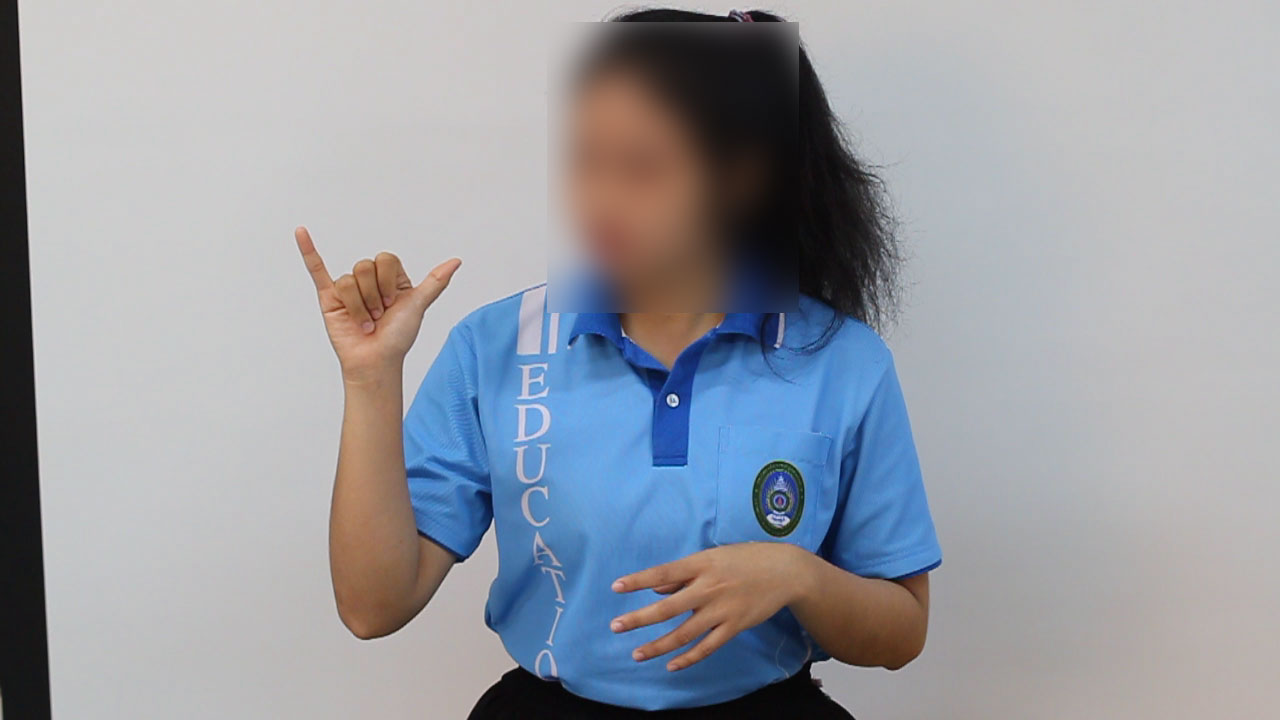yor: (278, 218, 470, 372)
